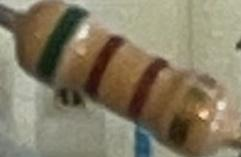Brown: (81, 34, 126, 99), (127, 58, 168, 121)
Green: (33, 4, 86, 80)
Side-Gold: (167, 73, 214, 150)
